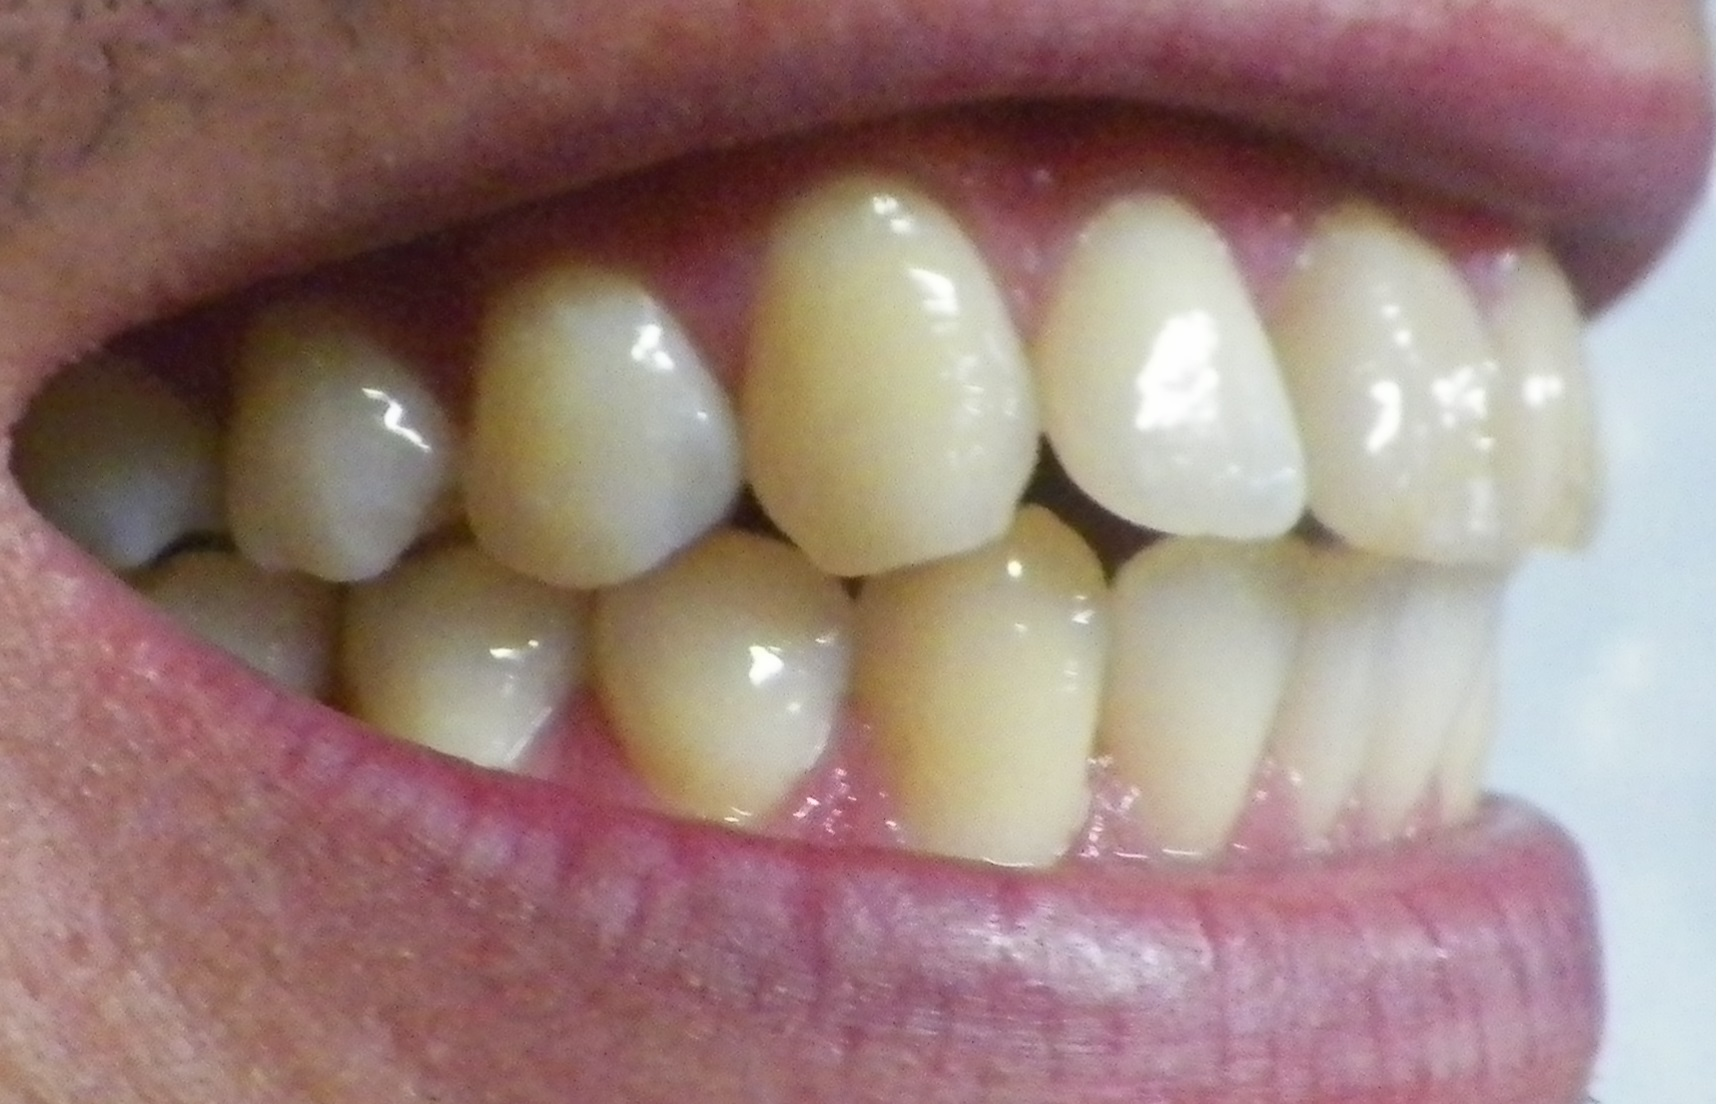boca: (33, 209, 1607, 840)
